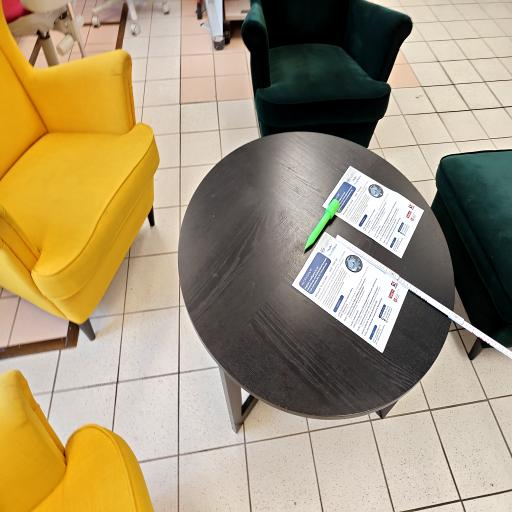Probe-Detection: (304, 199, 340, 251)
